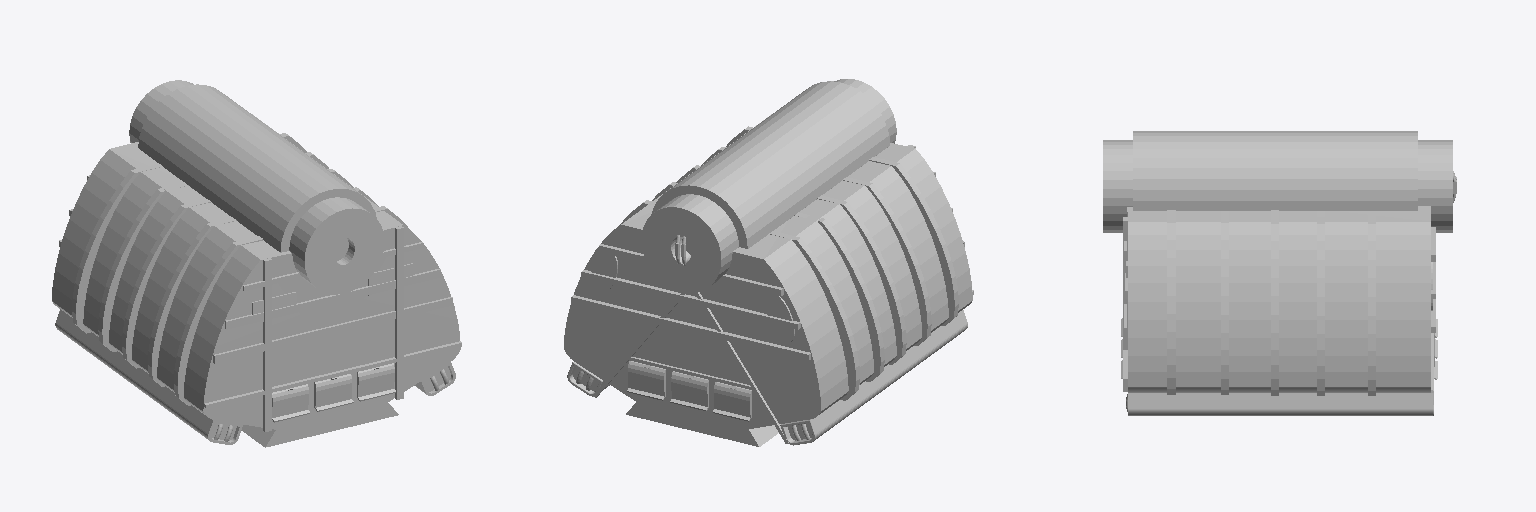
Rendered from boiler.obj.
The picture shows the model from 3 angles: view 1: azimuth 30°, elevation 25°; view 2: azimuth 150°, elevation 25°; view 3: azimuth 270°, elevation 25°; orthographic projection.
Visible parts, largest first — view 1: Cube.004; view 2: Cube.004; view 3: Cube.004.
Boxes of the visible parts, <box> form: Cube.004: <box>52,80,461,447</box>; Cube.004: <box>564,79,973,446</box>; Cube.004: <box>1103,131,1456,415</box>.
Bounding box in the file's own units: 0.9824 × 0.8254 × 1.11.